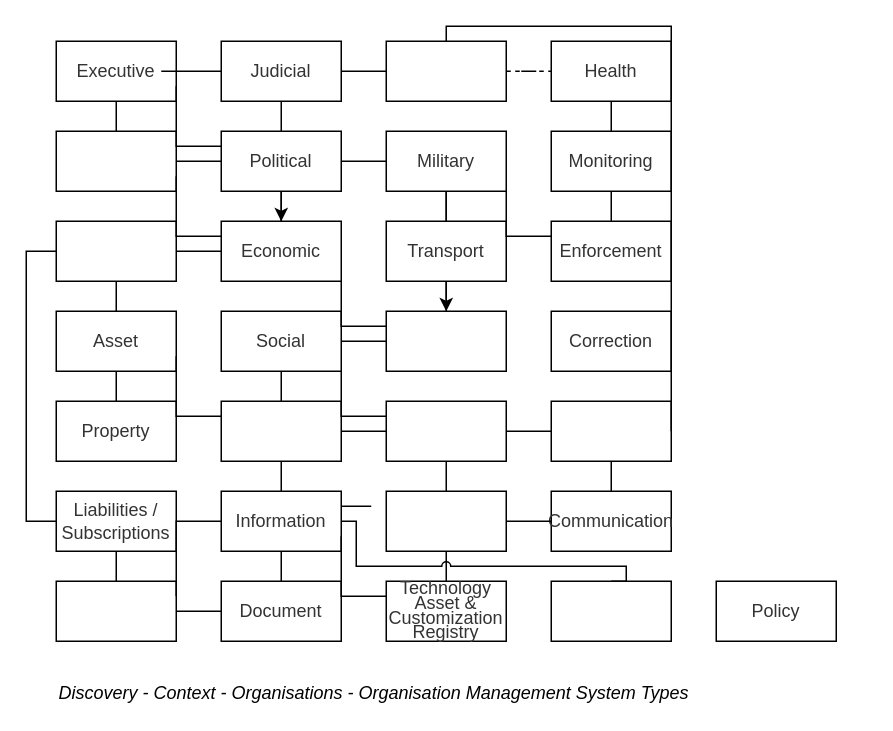
Image size: 893x731. Some labels were removed from this diagram. Each missing label, with the centre of its shape:
"Agreements/ Contracts" belongs at (x=115, y=610).
"Archives" belongs at (x=610, y=610).
"Financial" belongs at (x=115, y=250).
"Human Resources" belongs at (x=280, y=430).
"Identity" belongs at (x=445, y=430).
"Organisational" belongs at (x=610, y=430).
"Religious" belongs at (x=445, y=70).
"Taxation" belongs at (x=115, y=160).
"Technology" belongs at (x=445, y=520).
"Trade" belongs at (x=445, y=340).
